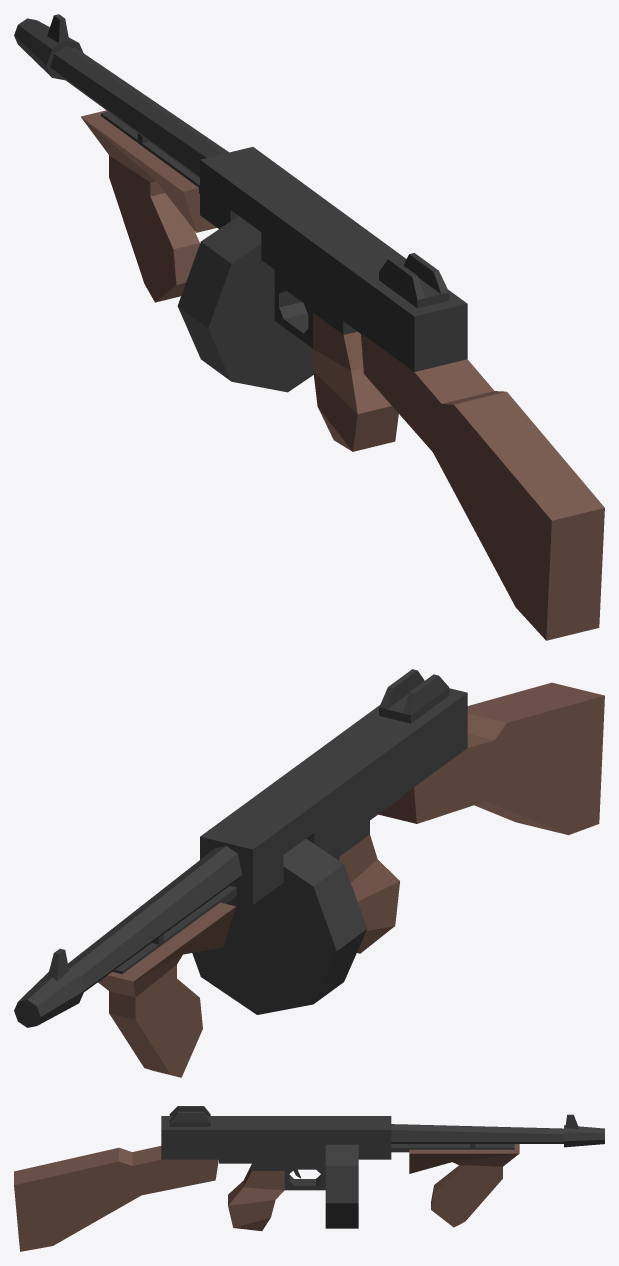
Rendered from RumbleGun.fbx.
The picture shows the model from 3 angles, top to bottom: view 1: azimuth 30°, elevation 25°; view 2: azimuth 150°, elevation 25°; view 3: azimuth 270°, elevation 25°; orthographic projection. The views are drawn at different scales.
Visible parts, largest first — view 1: Cube.002, Cube.001, Cylinder, Cube.004, Cube.003, Cylinder.001, Cube, Cube.005, Cylinder.002, Cube.008; view 2: Cube.001, Cube.002, Cylinder, Cube.004, Cylinder.001, Cube.003, Cube.005, Cylinder.002, Cube.008, Cube; view 3: Cube.002, Cube.001, Cube.004, Cylinder.001, Cylinder, Cube.003, Cube, Cube.005, Cube.008, Cylinder.002.
Boxes of the visible parts, box(x1,y1,x2,y2) form: Cube.002: box(361, 333, 604, 640); Cube.001: box(200, 147, 467, 371); Cylinder: box(177, 216, 313, 392); Cube.004: box(81, 110, 216, 302); Cube.003: box(313, 313, 398, 451); Cylinder.001: box(50, 46, 228, 178); Cube: box(274, 270, 360, 348); Cube.005: box(379, 253, 449, 308); Cylinder.002: box(14, 18, 83, 80); Cube.008: box(101, 111, 199, 193); Cube.001: box(200, 688, 467, 904); Cube.002: box(378, 682, 604, 835); Cylinder: box(192, 838, 367, 1014); Cube.004: box(98, 902, 235, 1077); Cylinder.001: box(68, 846, 242, 991); Cube.003: box(339, 834, 399, 953); Cube.005: box(379, 669, 449, 723); Cylinder.002: box(14, 968, 84, 1027); Cube.008: box(112, 885, 236, 973); Cube: box(326, 797, 400, 860); Cube.002: box(14, 1146, 218, 1251); Cube.001: box(161, 1116, 391, 1159); Cube.004: box(409, 1144, 519, 1227); Cylinder.001: box(391, 1124, 563, 1143); Cylinder: box(325, 1144, 358, 1228); Cube.003: box(228, 1165, 284, 1231); Cube: box(219, 1159, 325, 1190); Cube.005: box(169, 1106, 210, 1126); Cube.008: box(391, 1144, 514, 1152); Cylinder.002: box(564, 1125, 604, 1147).
Size of the model in its own units: 600 by 910 by 3597.
